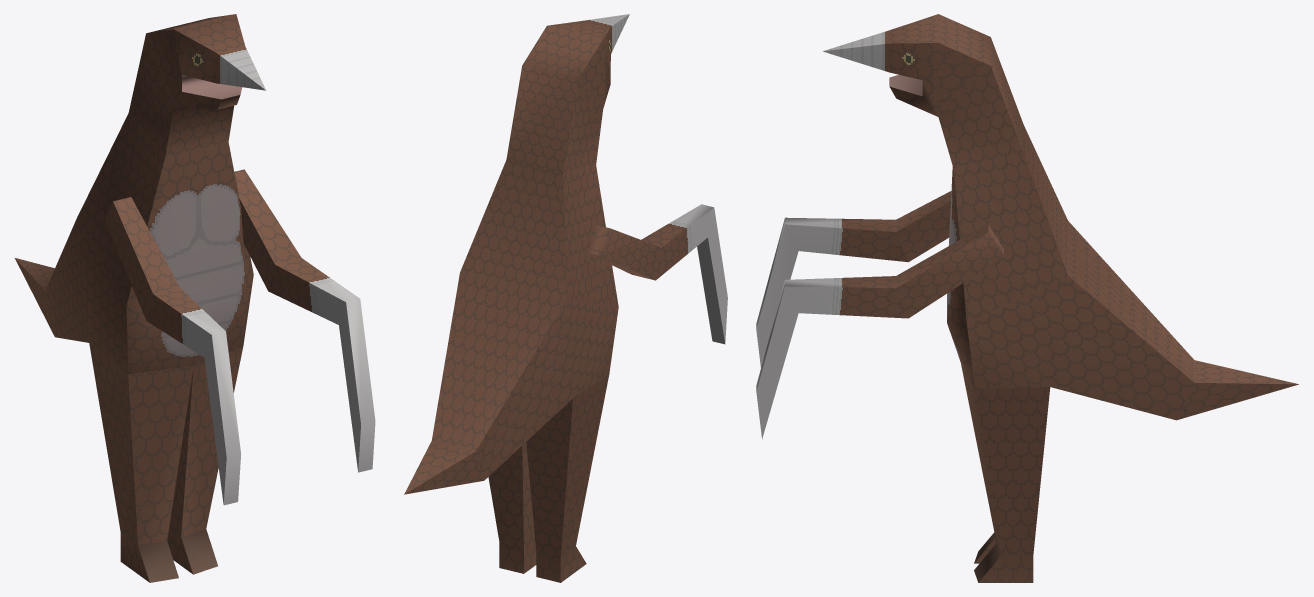
File: 058d_Mogran.glb
The picture shows the model from 3 angles, left to right: view 1: azimuth 30°, elevation 25°; view 2: azimuth 150°, elevation 25°; view 3: azimuth 270°, elevation 25°; orthographic projection. The views are drawn at different scales.
Parts seen in each view (by area): view 1: part_0; view 2: part_0; view 3: part_0.
Part boxes in pixels (bbox=[...]): part_0: bbox=[15, 14, 375, 582]; part_0: bbox=[404, 14, 727, 582]; part_0: bbox=[756, 14, 1298, 582].
Bounding box in the file's own units: 31.37 × 114 × 105.
1 material, 1 textured.
